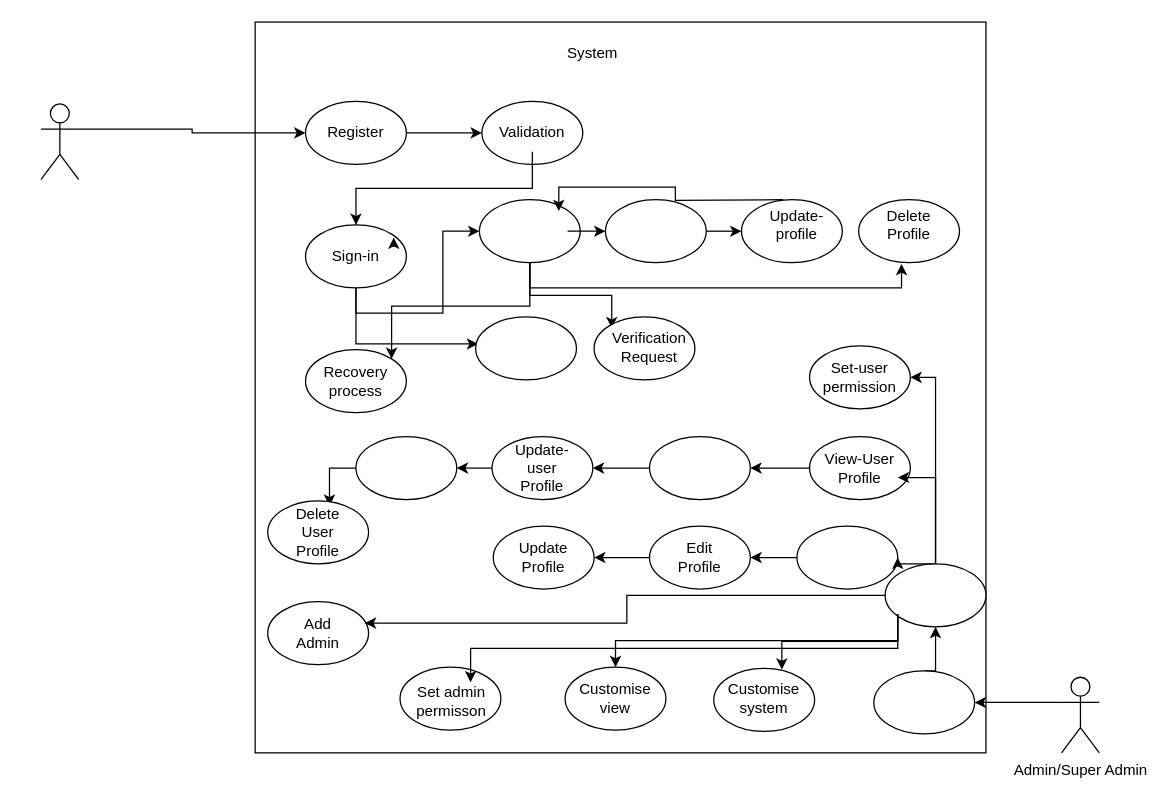
This 1169x801 diagram has some shape labels left out. Here are the shapes that lost their labels. From the top down, the centre of each, then its label:
At (x=59, y=141): "User/Guest".
At (x=529, y=230): "View-profile".
At (x=655, y=230): "Edit-profile".
At (x=525, y=348): "Error Handler".
At (x=406, y=467): "Verify user profile".
At (x=699, y=467): "Edit-user Profile".
At (x=847, y=557): "View Profile".
At (x=935, y=595): "Admin cms".
At (x=924, y=702): "Admin-log-in".
